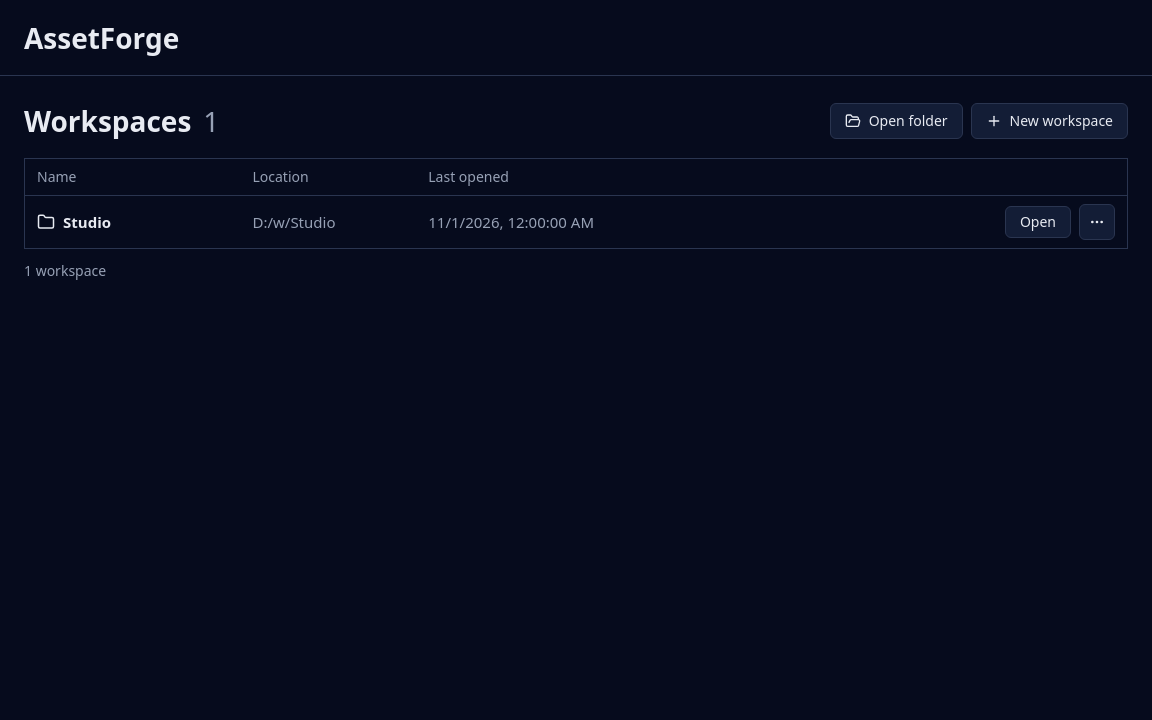
Test: missing database on open shows the dialog with the newest preselected
The width and height of the screenshot is (1152, 720).
Click the button with aria-label "Open workspace Studio".
click(1038, 222)  # box [1005, 206, 1071, 238]
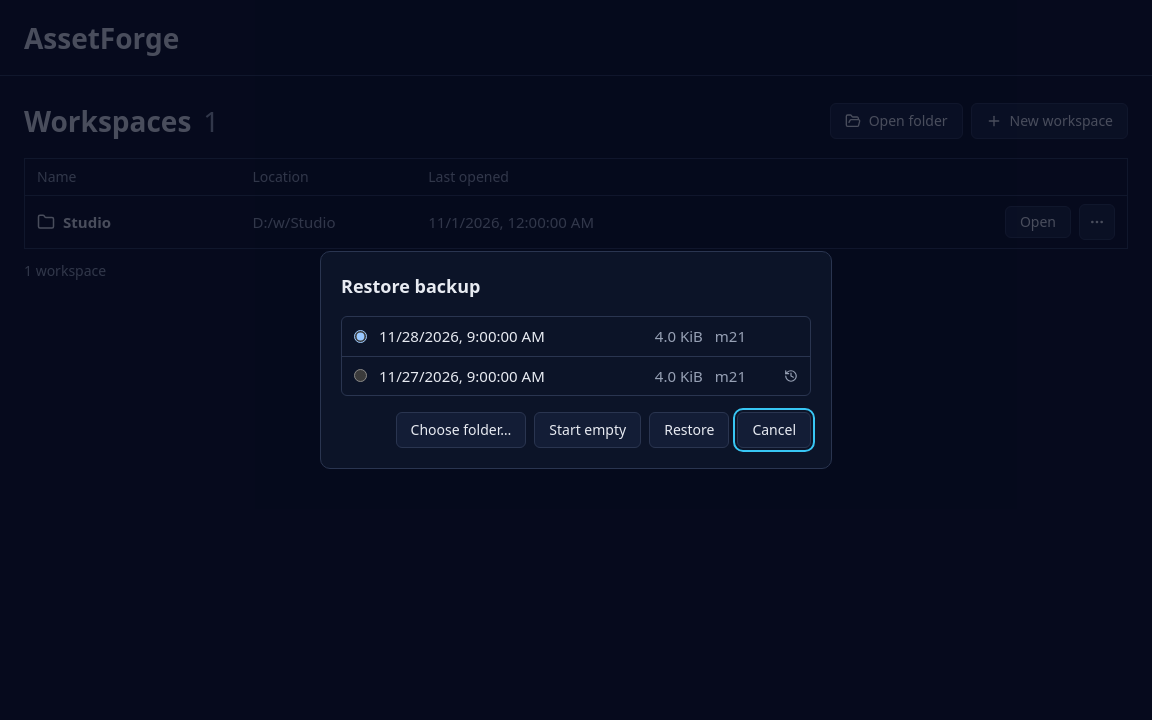
Expected: the number of radio buttons is 2, [354, 330, 367, 343]; [354, 369, 367, 382]
Expected: the radio button labelled "11/28/2026, 9:00:00 AM 4.0 KiB m21" is checked, [354, 330, 367, 343]
Expected: the radio button labelled "11/27/2026, 9:00:00 AM 4.0 KiB m21" is not checked, [354, 369, 367, 382]
